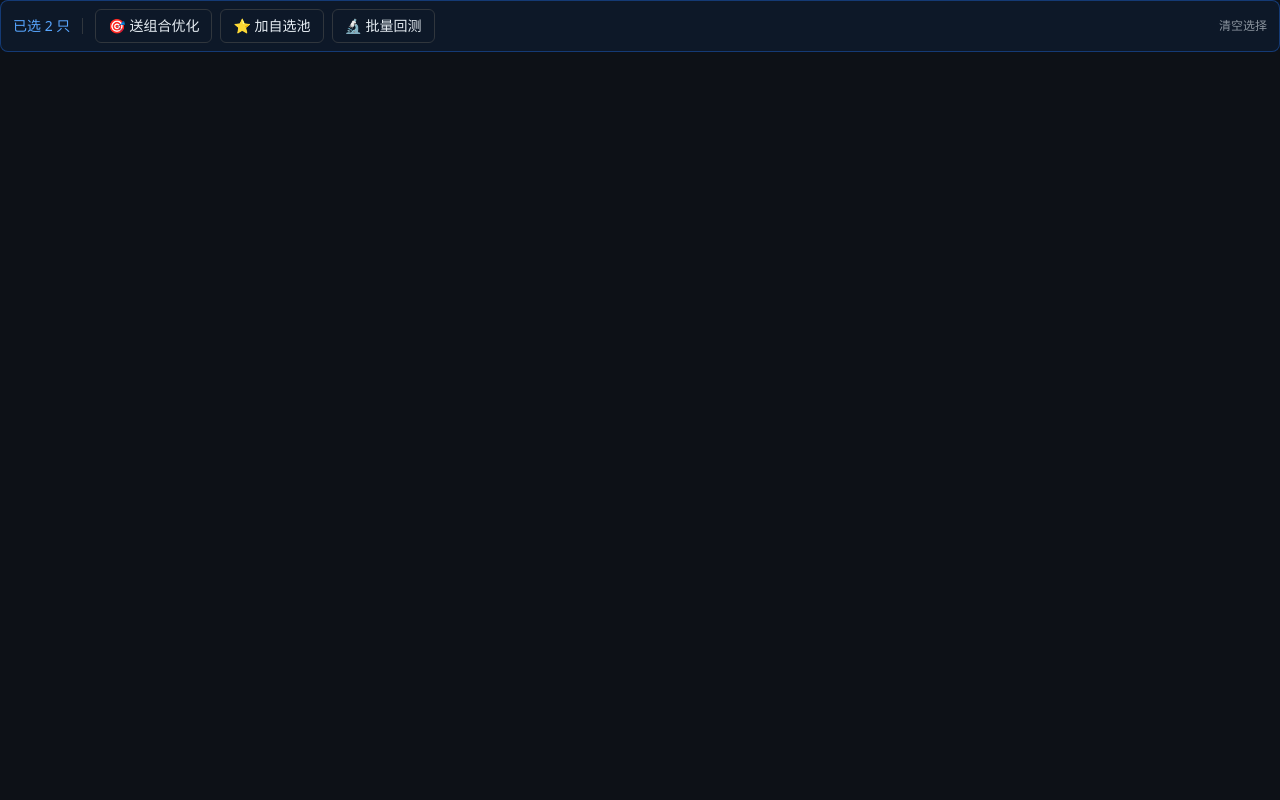
Scenario: SelectionActions › reports duplicates separately when re-adding
Click the button "⭐ 加自选池": click(272, 26) x1=220 y1=9 x2=324 y2=43
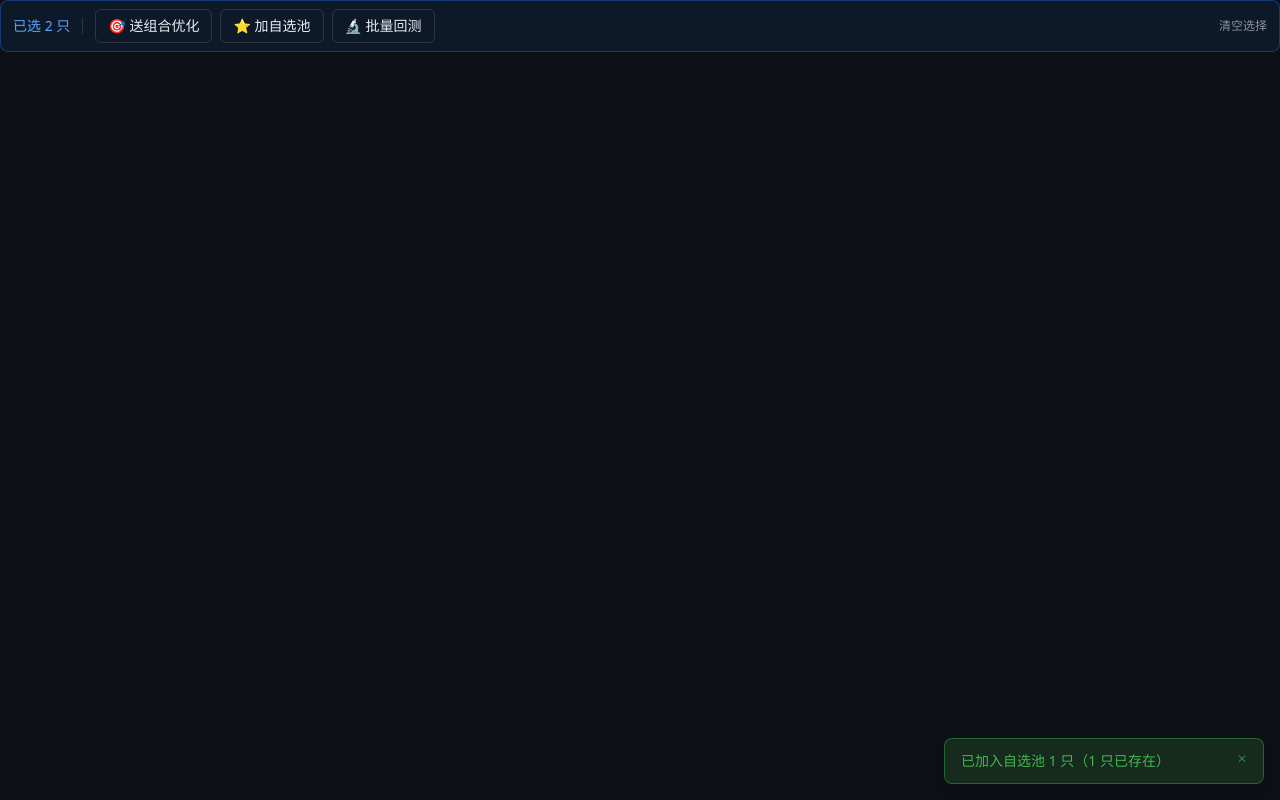
Now the text "已加入自选池 1 只（1 只已存在）" is shown, box x1=961 y1=751 x2=1170 y2=770
